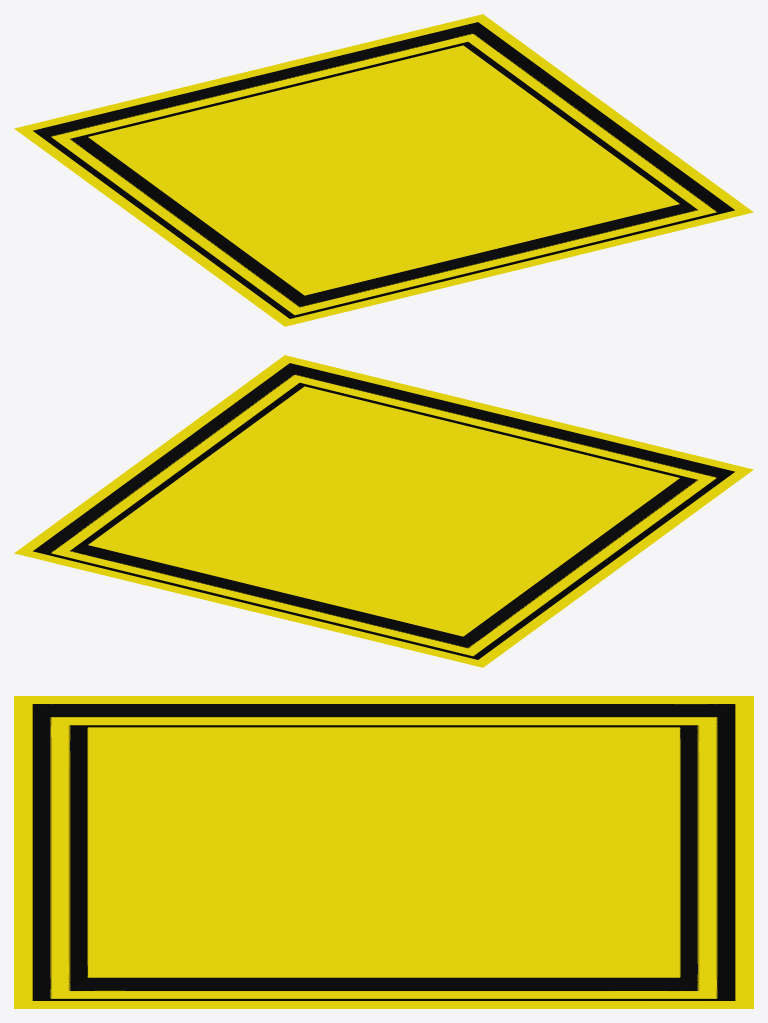
The model's file is Floor_1.fbx.
The picture shows the model from 3 angles, top to bottom: view 1: azimuth 30°, elevation 25°; view 2: azimuth 150°, elevation 25°; view 3: azimuth 270°, elevation 25°; orthographic projection. The views are drawn at different scales.
Visible parts, largest first — view 1: Floor_1 Plane; view 2: Floor_1 Plane; view 3: Floor_1 Plane.
Boxes of the visible parts, <box> form: Floor_1 Plane: <box>14,14,753,326</box>; Floor_1 Plane: <box>14,355,753,667</box>; Floor_1 Plane: <box>14,696,753,1008</box>.
Size of the model in its own units: 300 by 2.5 by 300.
